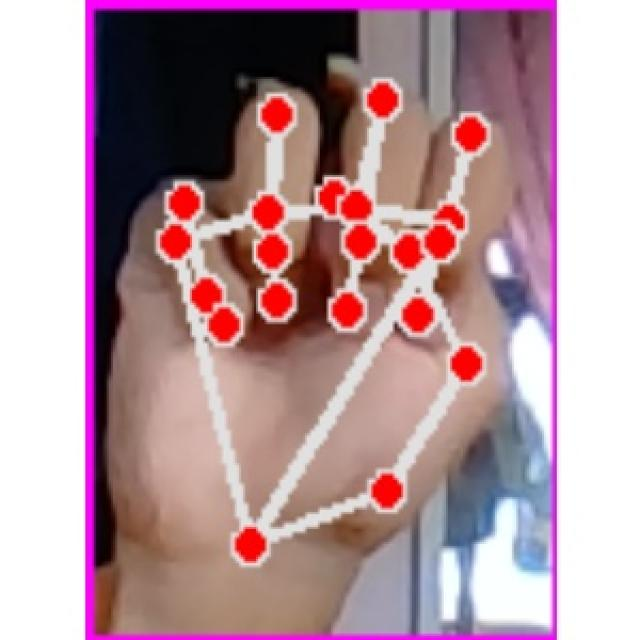M: (109, 58, 528, 608)
